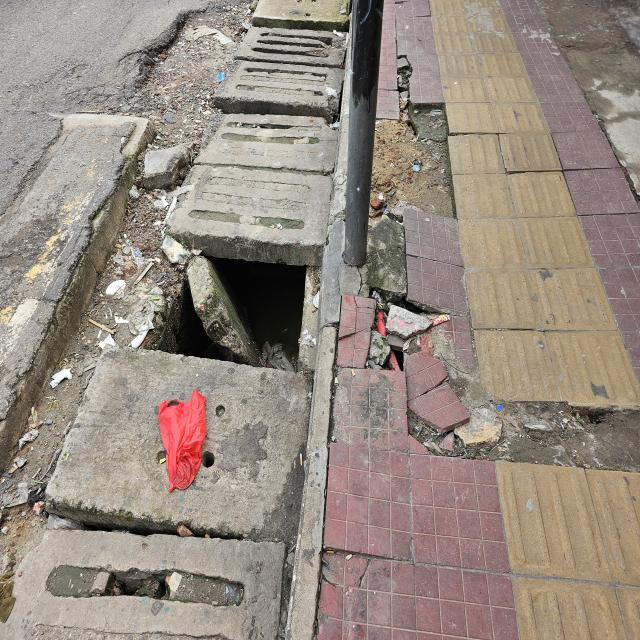drain_inlet: (132, 252, 310, 371)
